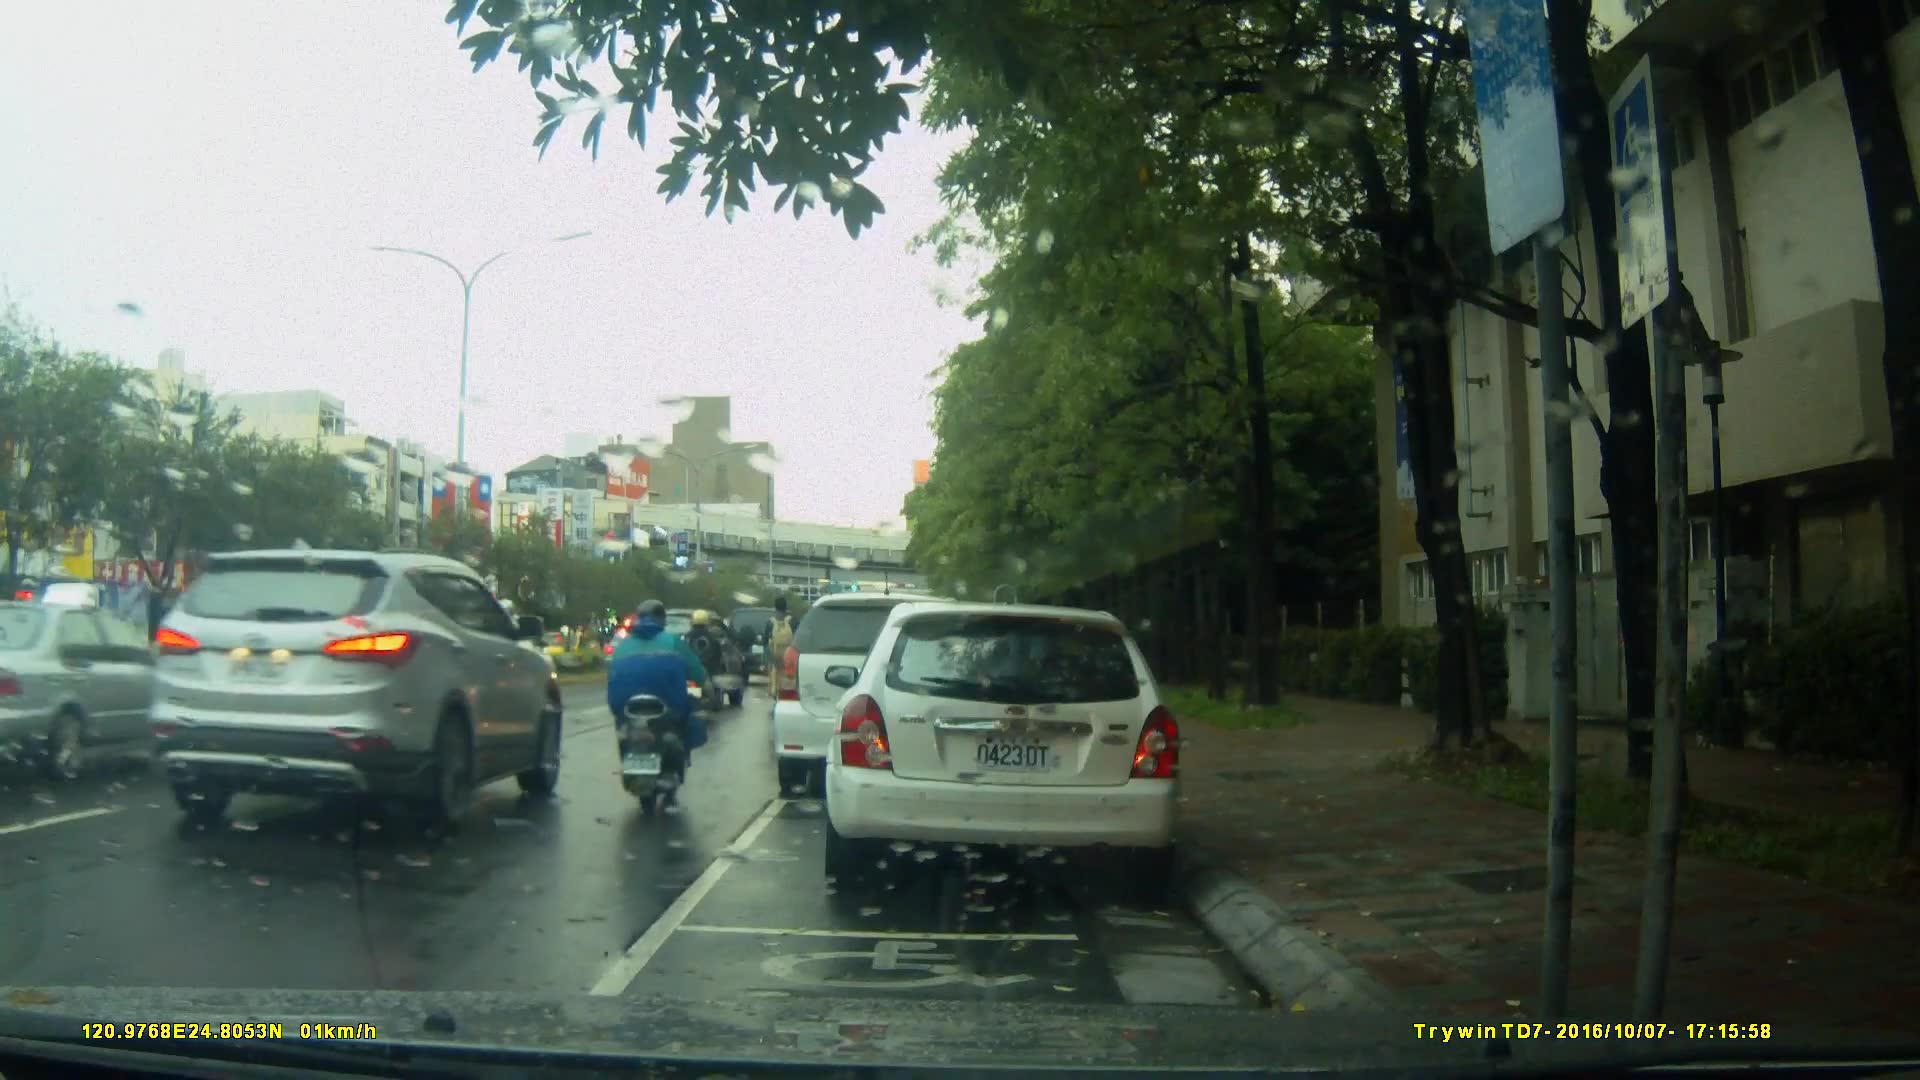rider: (606, 599, 709, 809), (674, 610, 739, 729), (763, 596, 803, 727)
vehicle: (154, 545, 568, 837), (822, 604, 1188, 883), (774, 595, 995, 802), (1, 601, 225, 784), (618, 598, 746, 702)
